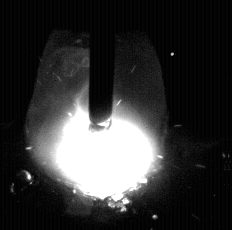arame: (90, 0, 114, 131)
poca: (26, 0, 167, 230)
